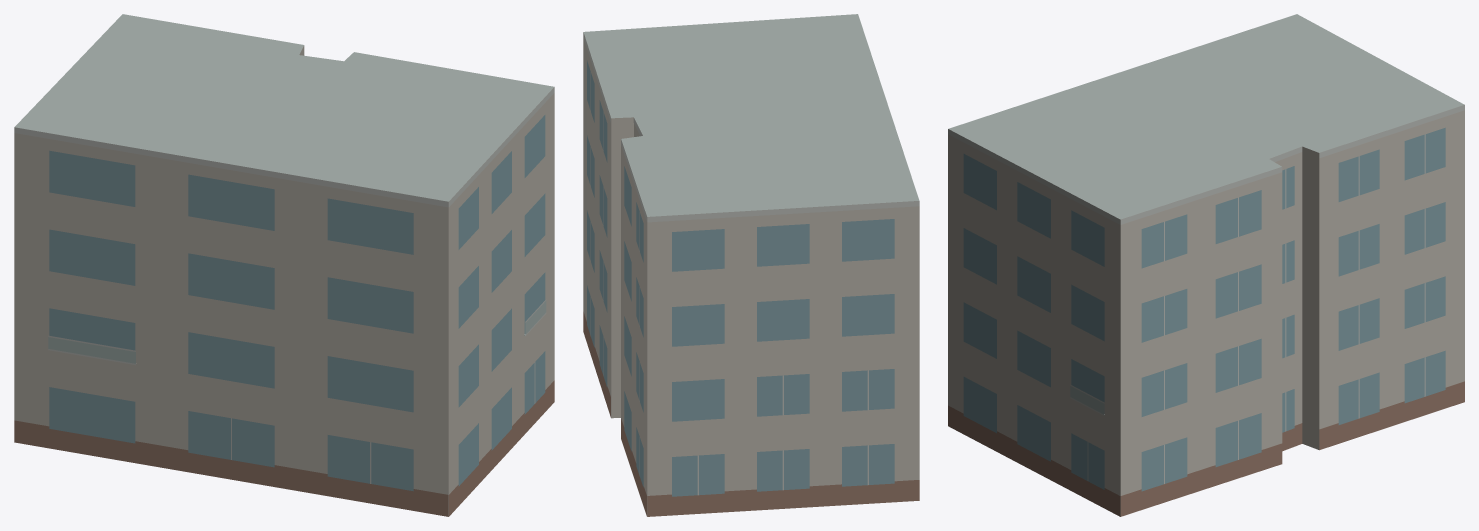
The model's file is survey-upis-32937635.glb.
The picture shows the model from 3 angles, left to right: view 1: azimuth 30°, elevation 25°; view 2: azimuth 150°, elevation 25°; view 3: azimuth 270°, elevation 25°; orthographic projection. The views are drawn at different scales.
Parts seen in each view (by area): view 1: survey-upis-32937635.tmp; view 2: survey-upis-32937635.tmp; view 3: survey-upis-32937635.tmp.
Part boxes in pixels (bbox=[...]): survey-upis-32937635.tmp: bbox=[14, 14, 554, 516]; survey-upis-32937635.tmp: bbox=[583, 14, 919, 516]; survey-upis-32937635.tmp: bbox=[948, 14, 1464, 516].
Bounding box in the file's own units: 19.78 × 13.33 × 21.01.
